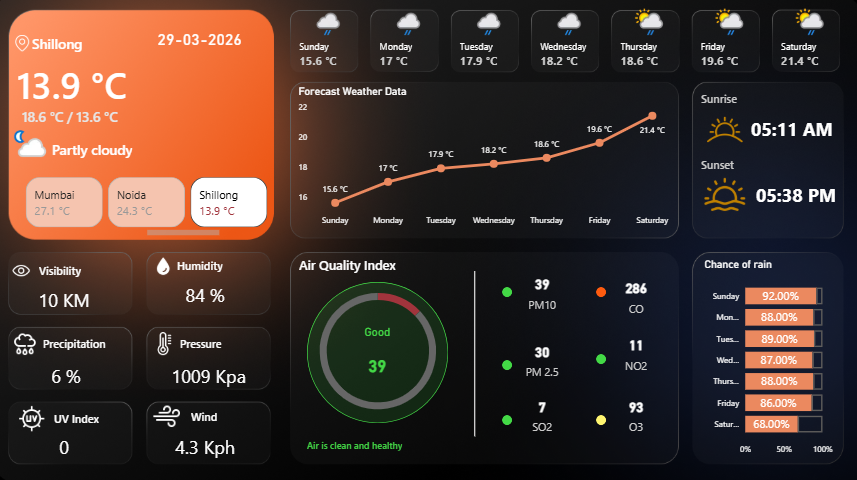

Layout of this report page (visuals, bound fields, positions):
{"tool":"powerbi","page":{"name":"Page 1","canvas":[1280,720],"ordinal":0},"visuals":[{"type":"shape","box":[464.2,422.4,207.5,207.5],"z":0},{"type":"donutChart","fields":{"Y":["Sum(Current.current.air_quality.pm10)","_Measures.left_val_pm10"]},"box":[438.8,411.9,258.2,223.9],"z":1000},{"type":"advancedSlicerVisual","fields":{"Values":["locations.location.name"]},"box":[46.3,262.7,367.2,97],"z":2000},{"type":"shape","box":[38.8,88.1,216.4,82.1],"z":3000},{"type":"shape","box":[89.6,203,250.7,47.8],"z":4000},{"type":"shape","box":[60.2,52.9,160.2,35.3],"z":5000},{"type":"image","box":[30.9,58.8,29.4,23.5],"z":6000},{"type":"cardVisual","fields":{"Data":["Min(Current.current.condition.icon)"]},"box":[10.4,171.6,329.9,91],"z":7000},{"type":"image","box":[29.9,385.1,29.9,40.3],"z":8000},{"type":"image","box":[238.8,385.1,26.9,26.9],"z":9000},{"type":"shape","box":[273.1,377.6,86.6,40.3],"z":10000},{"type":"shape","box":[92.5,603,68.7,40.3],"z":11000},{"type":"shape","box":[277.6,489.6,76.1,46.3],"z":12000},{"type":"shape","box":[76.1,494,100,37.3],"z":13000},{"type":"shape","box":[294,600,68.7,40.3],"z":14000},{"type":"image","box":[29.9,494,40.3,38.8],"z":15000},{"type":"image","box":[228.4,495.5,53.7,34.3],"z":16000},{"type":"image","box":[235.8,598.5,46.3,41.8],"z":17000},{"type":"image","box":[34.3,603,52.2,40.3],"z":18000},{"type":"card","fields":{"Values":["_Measures.Humidity_curr"]},"box":[255.2,417.9,117.9,47.8],"z":19000},{"type":"card","fields":{"Values":["_Measures.wind_speed"]},"box":[255.2,640.3,117.9,47.8],"z":20000},{"type":"card","fields":{"Values":["_Measures.Pressure_curr"]},"box":[255.2,535.8,128.4,47.8],"z":21000},{"type":"card","fields":{"Values":["_Measures.visibility_curr"]},"box":[47.8,425.4,117.9,47.8],"z":22000},{"type":"card","fields":{"Values":["_Measures.preceptation_curr"]},"box":[50.7,535.8,117.9,47.8],"z":23000},{"type":"card","fields":{"Values":["Sum(Current.current.uv)"]},"box":[47.8,640.3,117.9,47.8],"z":24000},{"type":"cardVisual","fields":{"Data":["Min(Current.current.last_updated)"]},"box":[228.4,31.3,176.1,65.7],"z":25000},{"type":"advancedSlicerVisual","fields":{"Values":["Forecast_day.Day_Name"]},"box":[434.3,7.5,831.3,113.4],"z":26000},{"type":"lineChart","title":"Forecast Weather Data","fields":{"Category":["Forecast_day.Day_Name"],"Y":["Sum(Forecast_day.forecast.forecastday.day.avgtemp_c)"]},"box":[446.3,132.8,561.2,216.4],"z":27000},{"type":"shape","box":[1043.3,132.8,161.2,40.3],"z":28000},{"type":"shape","box":[1116.4,164.2,149.3,62.7],"z":29000},{"type":"shape","box":[1123.9,262.7,129.9,59.7],"z":30000},{"type":"shape","box":[1043.3,229.9,161.2,40.3],"z":31000},{"type":"image","box":[1043.3,161.2,70.1,71.6],"z":32000},{"type":"image","box":[1043.3,262.7,70.1,59.7],"z":33000},{"type":"hundredPercentStackedBarChart","title":"Chance of rain ","fields":{"Category":["Forecast_day.Day_Name"],"Y":["Sum(Forecast_day.forecast.forecastday.day.daily_chance_of_rain)","Current.left_value_rain"]},"box":[1043.3,386.6,198.5,298.5],"z":34000},{"type":"card","fields":{"Values":["Sum(Current.current.air_quality.co)"]},"box":[889.6,411.9,117.9,61.2],"z":35000},{"type":"card","fields":{"Values":["Sum(Current.current.air_quality.no2)"]},"box":[889.6,494,117.9,64.2],"z":36000},{"type":"card","fields":{"Values":["Sum(Current.current.air_quality.o3)"]},"box":[889.6,583.6,117.9,65.7],"z":37000},{"type":"card","fields":{"Values":["Sum(Current.current.air_quality.so2)"]},"box":[750.7,585.1,117.9,62.7],"z":38000},{"type":"card","fields":{"Values":["Sum(Current.current.air_quality.pm2_5)"]},"box":[750.7,506,117.9,59.7],"z":39000},{"type":"card","fields":{"Values":["Sum(Current.current.air_quality.pm10)"]},"box":[750.7,397,117.9,77.6],"z":40000},{"type":"shape","box":[70.1,385.1,68.7,40.3],"z":41000},{"type":"shape","box":[452.2,373.1,194,46.3],"z":42000},{"type":"shape","box":[750.7,428.4,14.9,14.9],"z":43000},{"type":"shape","box":[750.7,535.8,14.9,14.9],"z":44000},{"type":"shape","box":[750.7,616.4,14.9,14.9],"z":45000},{"type":"shape","box":[889.6,428.4,14.9,14.9],"z":46000},{"type":"shape","box":[889.6,526.9,14.9,14.9],"z":47000},{"type":"shape","box":[889.6,616.4,14.9,14.9],"z":48000},{"type":"shape","box":[695.5,406,31.3,243.3],"z":49000},{"type":"card","fields":{"Values":["Sum(Current.current.air_quality.pm10)"]},"box":[495.5,485.1,144.8,101.5],"z":50000},{"type":"shape","box":[464.2,640.3,259.7,40.3],"z":50001},{"type":"shape","box":[46.3,159.7,177.6,35.8],"z":50002}]}

Visuals, with their boxes in screenshot pixels (x1, y1, x2, y2), scaled from the page's 1280x720 canvas onto the 857x480 screenshot:
shape: <region>311, 282, 450, 420</region>
donutChart - Sum(Current.current.air_quality.pm10) x _Measures.left_val_pm10: <region>294, 275, 467, 424</region>
advancedSlicerVisual - locations.location.name: <region>31, 175, 277, 240</region>
shape: <region>26, 59, 171, 113</region>
shape: <region>60, 135, 228, 167</region>
shape: <region>40, 35, 148, 59</region>
image: <region>21, 39, 40, 55</region>
cardVisual - Min(Current.current.condition.icon): <region>7, 114, 228, 175</region>
image: <region>20, 257, 40, 284</region>
image: <region>160, 257, 178, 275</region>
shape: <region>183, 252, 241, 279</region>
shape: <region>62, 402, 108, 429</region>
shape: <region>186, 326, 237, 357</region>
shape: <region>51, 329, 118, 354</region>
shape: <region>197, 400, 243, 427</region>
image: <region>20, 329, 47, 355</region>
image: <region>153, 330, 189, 353</region>
image: <region>158, 399, 189, 427</region>
image: <region>23, 402, 58, 429</region>
card - _Measures.Humidity_curr: <region>171, 279, 250, 310</region>
card - _Measures.wind_speed: <region>171, 427, 250, 459</region>
card - _Measures.Pressure_curr: <region>171, 357, 257, 389</region>
card - _Measures.visibility_curr: <region>32, 284, 111, 315</region>
card - _Measures.preceptation_curr: <region>34, 357, 113, 389</region>
card - Sum(Current.current.uv): <region>32, 427, 111, 459</region>
cardVisual - Min(Current.current.last_updated): <region>153, 21, 271, 65</region>
advancedSlicerVisual - Forecast_day.Day_Name: <region>291, 5, 847, 81</region>
"Forecast Weather Data" lineChart: <region>299, 89, 675, 233</region>
shape: <region>699, 89, 806, 115</region>
shape: <region>747, 109, 847, 151</region>
shape: <region>752, 175, 839, 215</region>
shape: <region>699, 153, 806, 180</region>
image: <region>699, 107, 745, 155</region>
image: <region>699, 175, 745, 215</region>
"Chance of rain " hundredPercentStackedBarChart: <region>699, 258, 831, 457</region>
card - Sum(Current.current.air_quality.co): <region>596, 275, 675, 315</region>
card - Sum(Current.current.air_quality.no2): <region>596, 329, 675, 372</region>
card - Sum(Current.current.air_quality.o3): <region>596, 389, 675, 433</region>
card - Sum(Current.current.air_quality.so2): <region>503, 390, 582, 432</region>
card - Sum(Current.current.air_quality.pm2_5): <region>503, 337, 582, 377</region>
card - Sum(Current.current.air_quality.pm10): <region>503, 265, 582, 316</region>
shape: <region>47, 257, 93, 284</region>
shape: <region>303, 249, 433, 280</region>
shape: <region>503, 286, 513, 296</region>
shape: <region>503, 357, 513, 367</region>
shape: <region>503, 411, 513, 421</region>
shape: <region>596, 286, 606, 296</region>
shape: <region>596, 351, 606, 361</region>
shape: <region>596, 411, 606, 421</region>
shape: <region>466, 271, 487, 433</region>
card - Sum(Current.current.air_quality.pm10): <region>332, 323, 429, 391</region>
shape: <region>311, 427, 485, 454</region>
shape: <region>31, 106, 150, 130</region>
